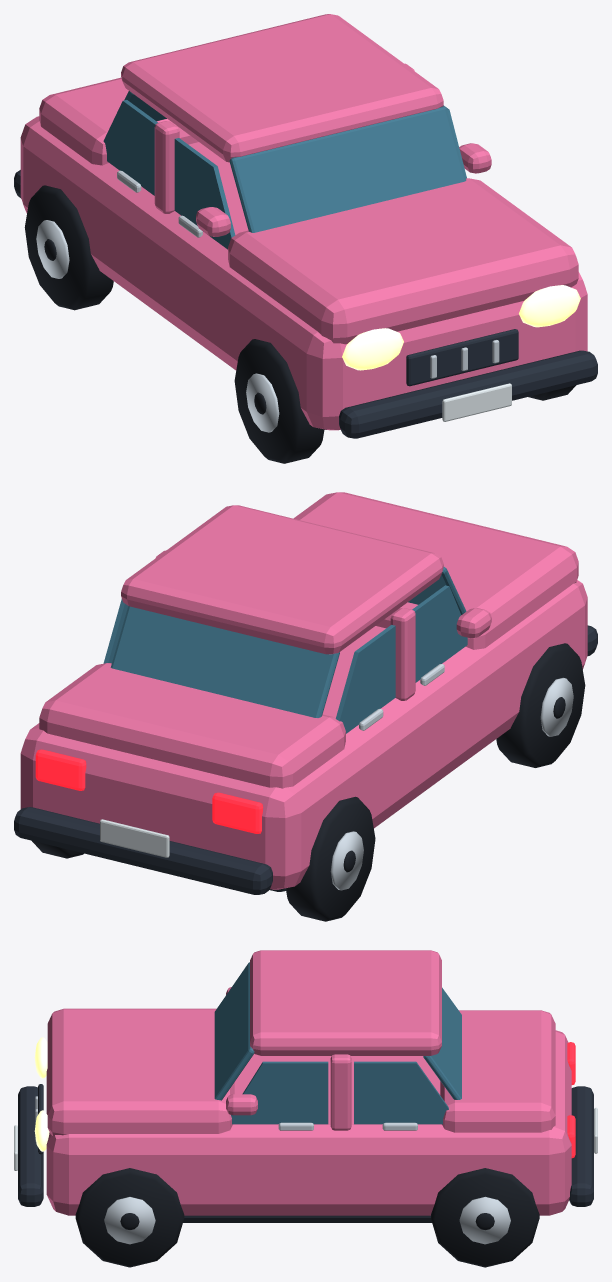
The model's file is town-car.glb.
3 renders of one model, top to bottom at view 1: azimuth 30°, elevation 25°; view 2: azimuth 150°, elevation 25°; view 3: azimuth 270°, elevation 25°, orthographic. The views are drawn at different scales.
Parts seen in each view (by area): view 1: TownCar_PaintedBody, TownCar_Windows, TownCar_DarkTrim, Wheel_FL_Tire, Wheel_RL_Tire, TownCar_Headlights, TownCar_LicensePlates, Wheel_RL_Hubcap, Wheel_FL_Hubcap, TownCar_MetalDetails; view 2: TownCar_PaintedBody, TownCar_Windows, TownCar_DarkTrim, Wheel_RL_Tire, Wheel_FL_Tire, TownCar_TailLights, TownCar_LicensePlates, Wheel_FL_Hubcap, Wheel_RL_Hubcap; view 3: TownCar_PaintedBody, TownCar_Windows, TownCar_DarkTrim, Wheel_FR_Tire, Wheel_RR_Tire, Wheel_RR_Hubcap, Wheel_FR_Hubcap, TownCar_Headlights, TownCar_MetalDetails, TownCar_TailLights.
Boxes of the visible parts, x1=… form: TownCar_PaintedBody: x1=20, y1=14, x2=587, y2=430; TownCar_Windows: x1=103, y1=91, x2=466, y2=249; TownCar_DarkTrim: x1=14, y1=170, x2=597, y2=438; Wheel_FL_Tire: x1=234, y1=339, x2=324, y2=463; Wheel_RL_Tire: x1=24, y1=185, x2=113, y2=310; TownCar_Headlights: x1=342, y1=285, x2=580, y2=370; TownCar_LicensePlates: x1=442, y1=383, x2=511, y2=421; Wheel_RL_Hubcap: x1=36, y1=220, x2=69, y2=278; Wheel_FL_Hubcap: x1=246, y1=373, x2=279, y2=432; TownCar_MetalDetails: x1=117, y1=170, x2=499, y2=378; TownCar_PaintedBody: x1=20, y1=492, x2=587, y2=889; TownCar_Windows: x1=103, y1=567, x2=467, y2=733; TownCar_DarkTrim: x1=14, y1=625, x2=597, y2=894; Wheel_RL_Tire: x1=286, y1=796, x2=375, y2=921; Wheel_FL_Tire: x1=496, y1=643, x2=585, y2=767; TownCar_TailLights: x1=35, y1=749, x2=263, y2=833; TownCar_LicensePlates: x1=100, y1=819, x2=169, y2=857; Wheel_FL_Hubcap: x1=540, y1=677, x2=573, y2=736; Wheel_RL_Hubcap: x1=330, y1=831, x2=363, y2=890; TownCar_PaintedBody: x1=46, y1=950, x2=571, y2=1215; TownCar_Windows: x1=214, y1=962, x2=461, y2=1124; TownCar_DarkTrim: x1=18, y1=1084, x2=593, y2=1222; Wheel_FR_Tire: x1=75, y1=1168, x2=184, y2=1267; Wheel_RR_Tire: x1=431, y1=1168, x2=539, y2=1267; Wheel_RR_Hubcap: x1=459, y1=1196, x2=510, y2=1244; Wheel_FR_Hubcap: x1=104, y1=1197, x2=155, y2=1244; TownCar_Headlights: x1=34, y1=1037, x2=49, y2=1151; TownCar_MetalDetails: x1=35, y1=1096, x2=417, y2=1141; TownCar_TailLights: x1=567, y1=1042, x2=575, y2=1158.
Size of the model in its own units: 1.86 by 1.5 by 3.65.
